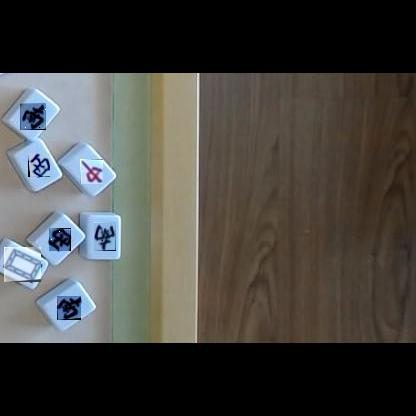2z: (21, 103, 46, 130), (94, 222, 116, 251), (57, 296, 81, 320)
3z: (28, 153, 50, 177), (49, 228, 71, 251)
5z: (4, 247, 41, 282)
7z: (80, 159, 103, 184)
